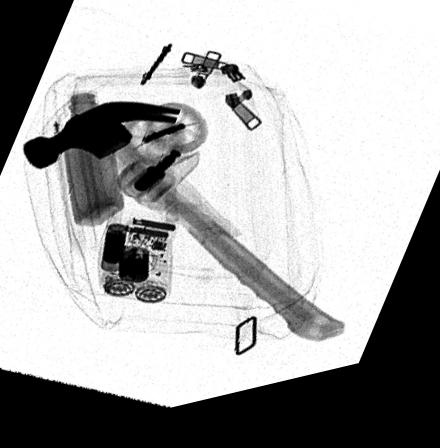Hammer: (22, 105, 346, 357)
